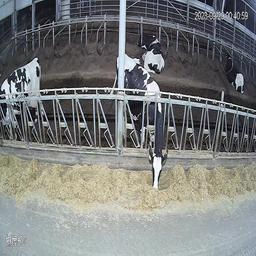cow: (116, 54, 168, 190), (1, 55, 44, 139), (138, 31, 165, 74), (223, 52, 246, 94)
